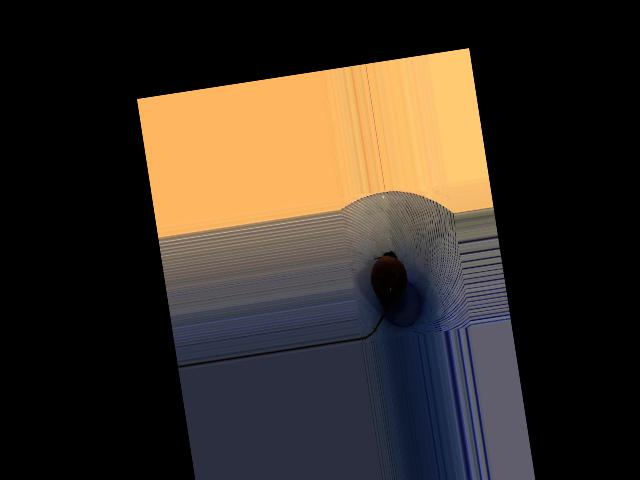beet: (347, 249, 415, 339)
